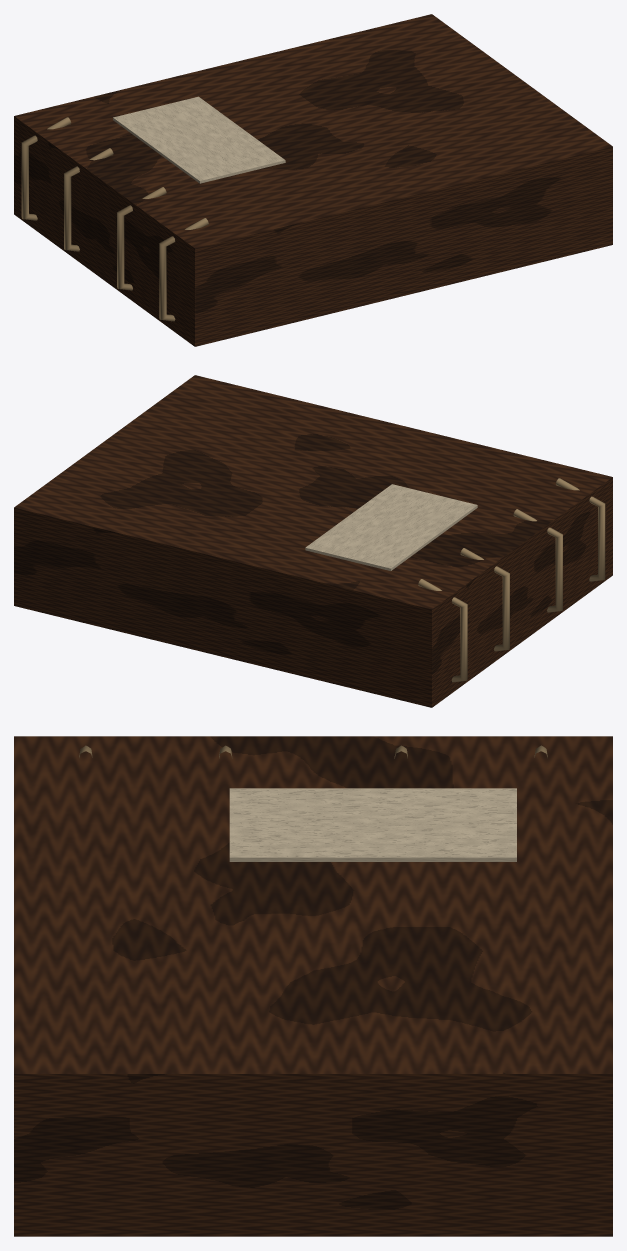
Rendered from book_dark.glb.
3 renders of one model, top to bottom at view 1: azimuth 30°, elevation 25°; view 2: azimuth 150°, elevation 25°; view 3: azimuth 270°, elevation 25°, orthographic. The views are drawn at different scales.
Parts seen in each view (by area): view 1: Cover, Art_Parchment, Art_FadedThread; view 2: Cover, Art_Parchment, Art_FadedThread; view 3: Cover, Art_Parchment.
Boxes of the visible parts, x1,y1,x2,y2 form: Cover: (14,14,612,346); Art_Parchment: (113,96,285,183); Art_FadedThread: (21,117,208,321); Cover: (14,375,612,707); Art_Parchment: (305,484,477,570); Art_FadedThread: (418,478,605,682); Cover: (14,736,612,1236); Art_Parchment: (229,788,516,861).
Bounding box in the file's own units: 0.2065 × 0.0492 × 0.15.
5 materials, 4 textured.
